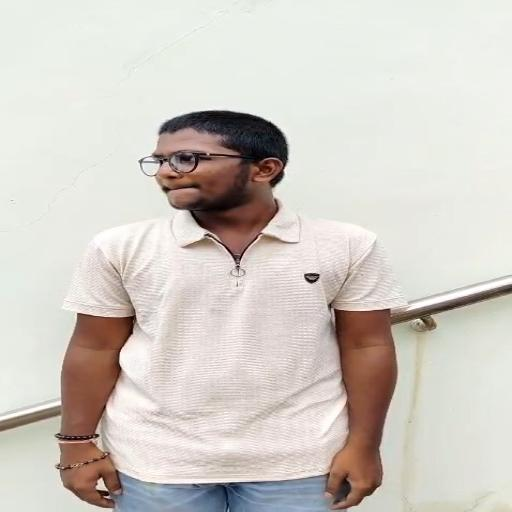employee-detectio-system: (66, 105, 408, 440)
